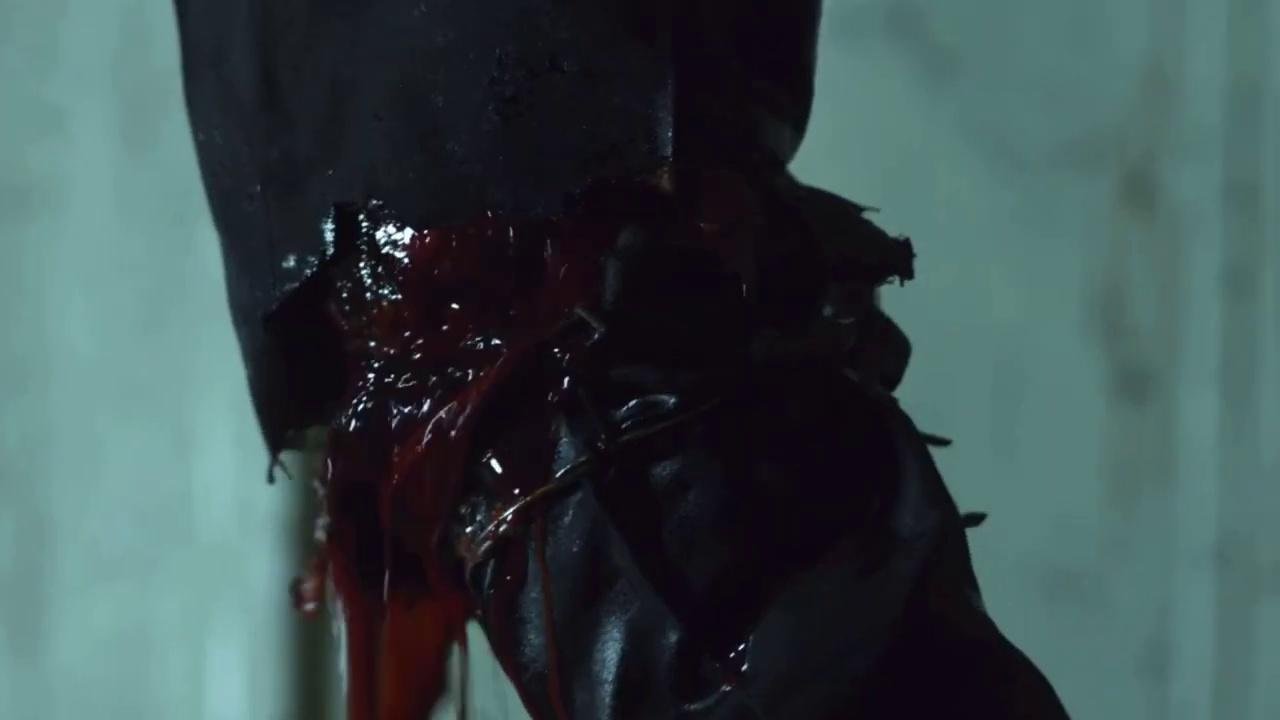Fire: (292, 170, 767, 719)
